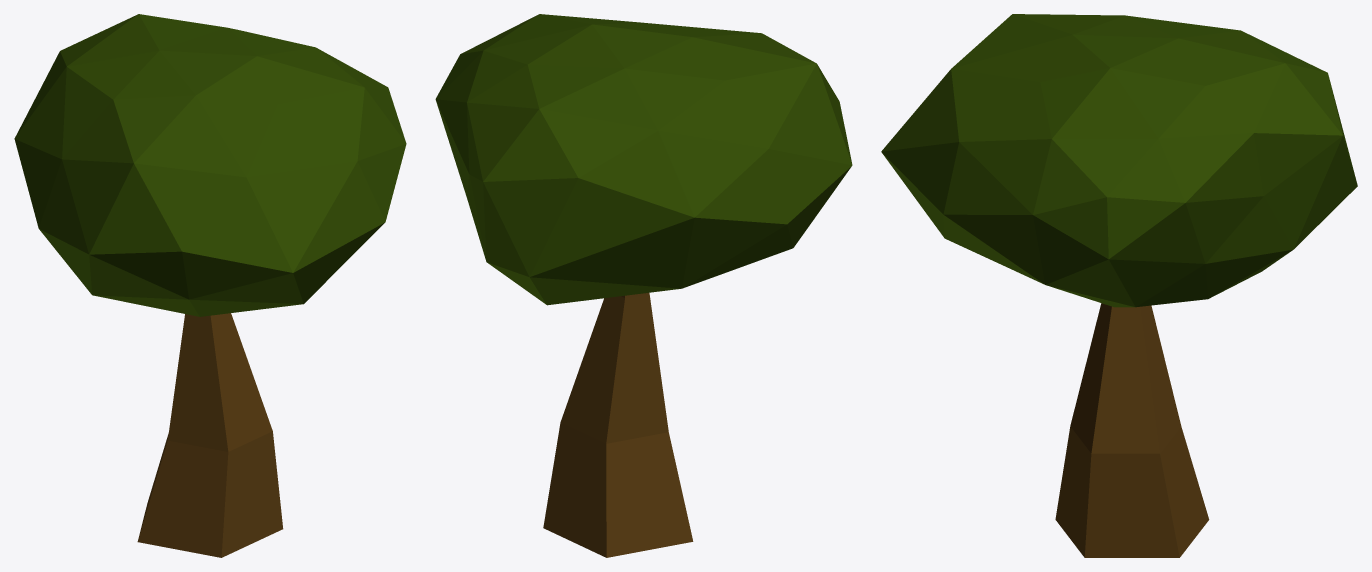
Rendered from Tree_001.gltf.
3 views of the same model, side by side, from view 1: azimuth 30°, elevation 25°; view 2: azimuth 150°, elevation 25°; view 3: azimuth 270°, elevation 25° (orthographic). The views are drawn at different scales.
Visible parts, largest first — view 1: Low_Poly_Tree_001; view 2: Low_Poly_Tree_001; view 3: Low_Poly_Tree_001.
Boxes of the visible parts, bbox=[...] form: Low_Poly_Tree_001: bbox=[14, 14, 406, 557]; Low_Poly_Tree_001: bbox=[435, 14, 852, 557]; Low_Poly_Tree_001: bbox=[881, 14, 1357, 557].
Bounding box in the file's own units: 5.17 × 6.59 × 5.89.
